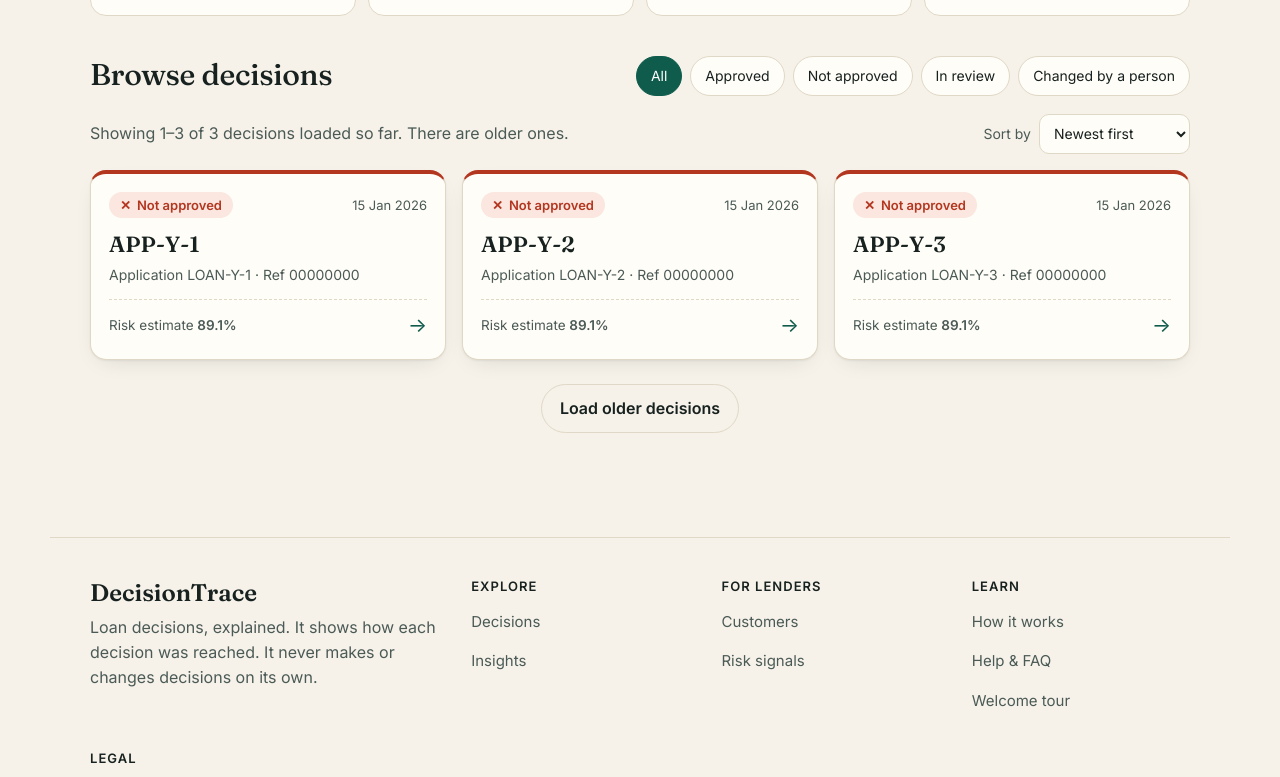
Test case: things the independent review found › a failed 'load older' keeps what is shown, says so beside the button, and retries the same page
(page scrolled)
Click the button with test id "load-more" at (640, 409), box x1=541 y1=384 x2=739 y2=433
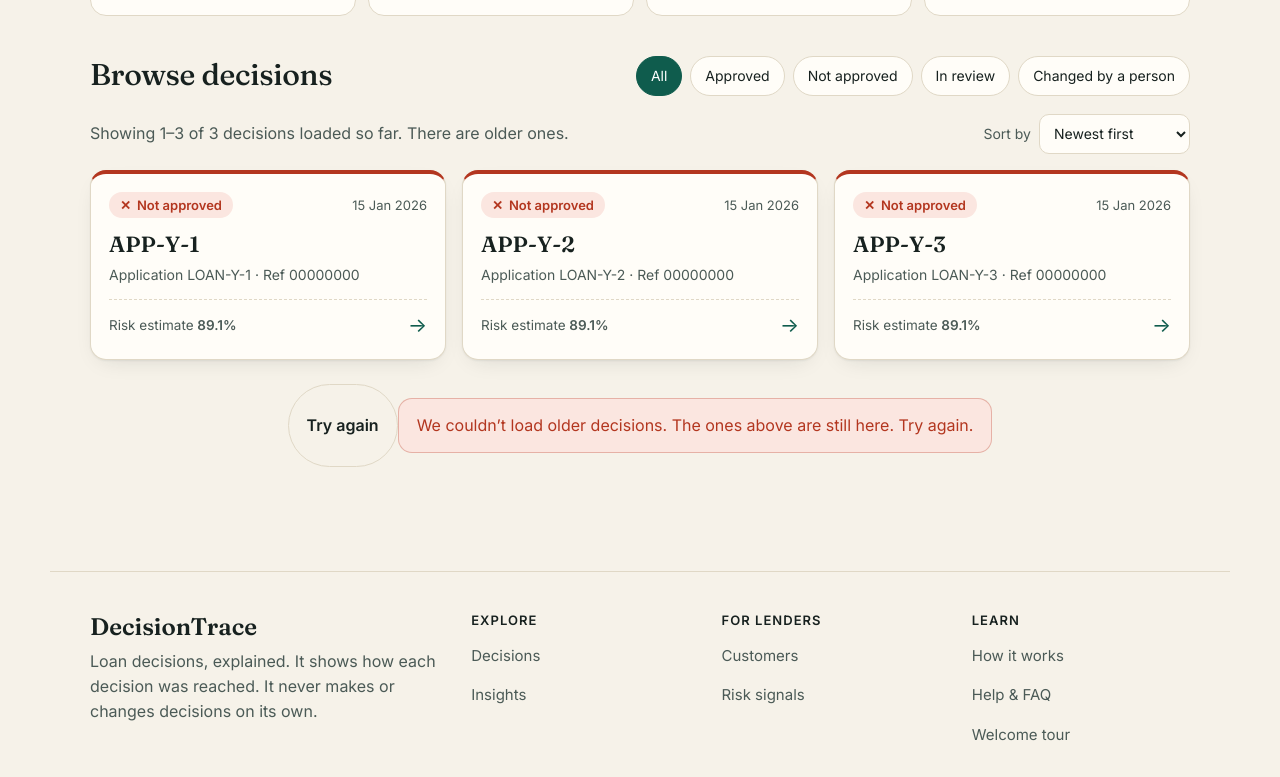
Expected: the text "Application LOAN-Y-1 · Ref 00000000" is shown 3 times, x1=109 y1=266 x2=360 y2=283; x1=481 y1=266 x2=734 y2=283; x1=853 y1=266 x2=1106 y2=283
Expected: the text "We couldn’t load older decisions. The ones above are still here. Try again." is shown, x1=398 y1=398 x2=992 y2=453
Click the button with test id "load-more" at (343, 426), box x1=288 y1=384 x2=398 y2=467
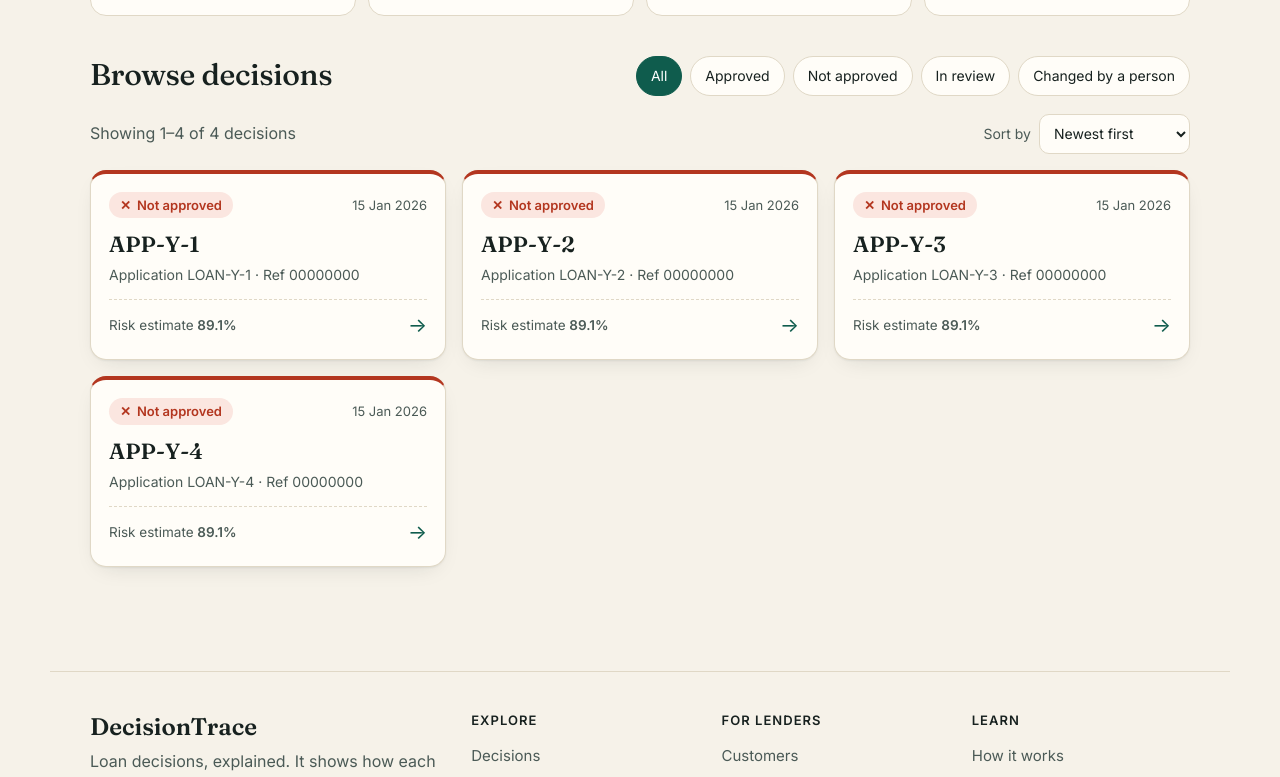
Expected: the text "Application LOAN-Y-1 · Ref 00000000" is shown 4 times, x1=109 y1=266 x2=360 y2=283; x1=481 y1=266 x2=734 y2=283; x1=853 y1=266 x2=1106 y2=283; x1=109 y1=473 x2=363 y2=490
